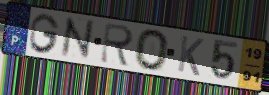5: (210, 38, 241, 82)
G: (28, 13, 61, 55)
K: (176, 34, 206, 78)
N: (59, 16, 95, 61)
O: (134, 28, 171, 72)
R: (98, 22, 136, 69)
